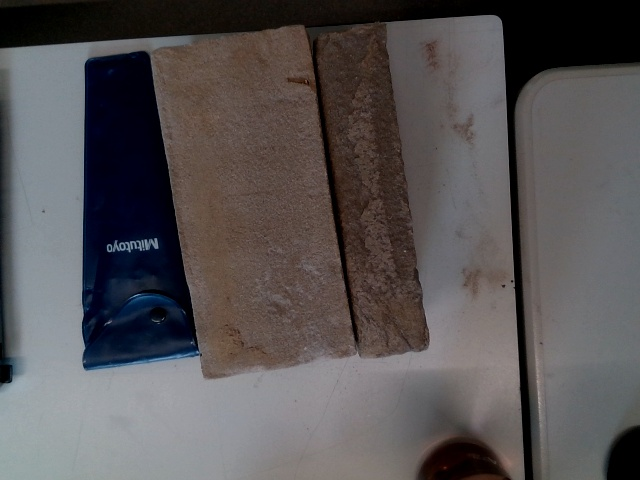brick: (150, 29, 358, 377)
